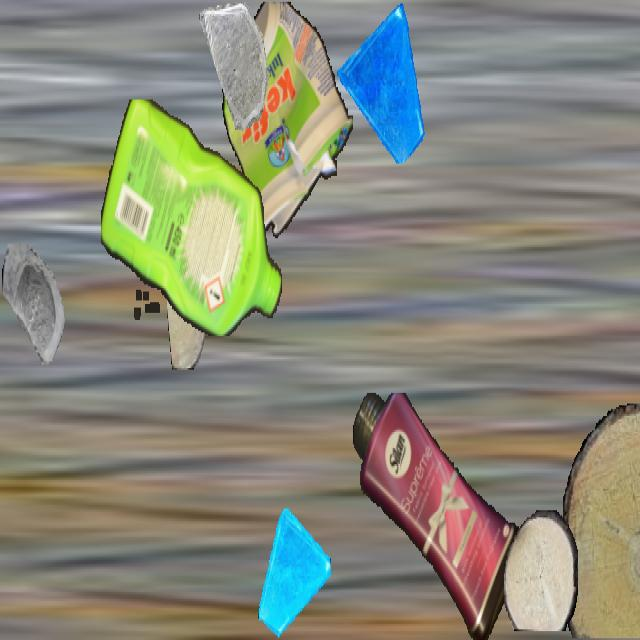glass: (337, 2, 427, 162), (1, 244, 77, 378), (256, 507, 330, 638), (199, 2, 271, 130)
plastic: (101, 100, 283, 334), (352, 393, 524, 638), (221, 2, 353, 247), (638, 366, 640, 608)
wood: (559, 404, 640, 638), (504, 510, 578, 631), (167, 238, 205, 370)
